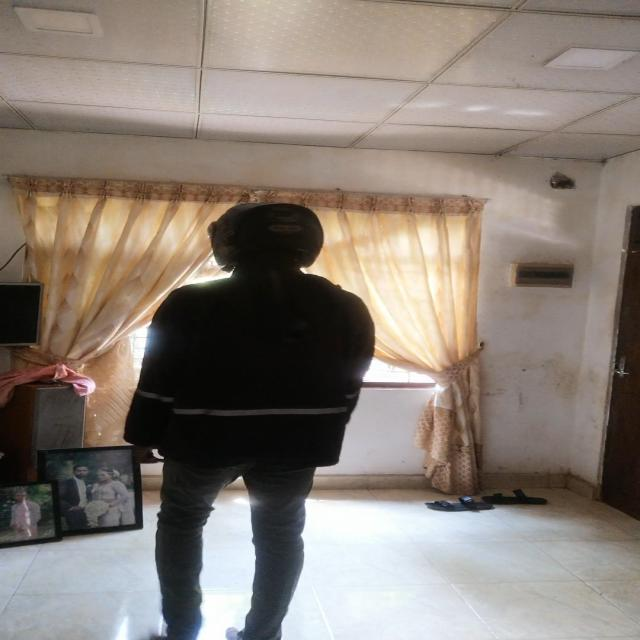Helmet_Wearer: (188, 204, 341, 294)
Jacket_Wearer: (133, 271, 387, 481)
Person: (126, 193, 360, 640)
